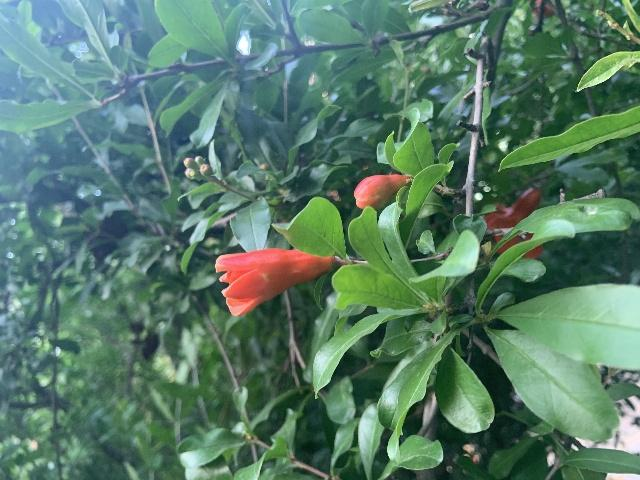bud: (353, 173, 410, 210)
flower: (215, 246, 332, 315), (484, 186, 545, 260)
